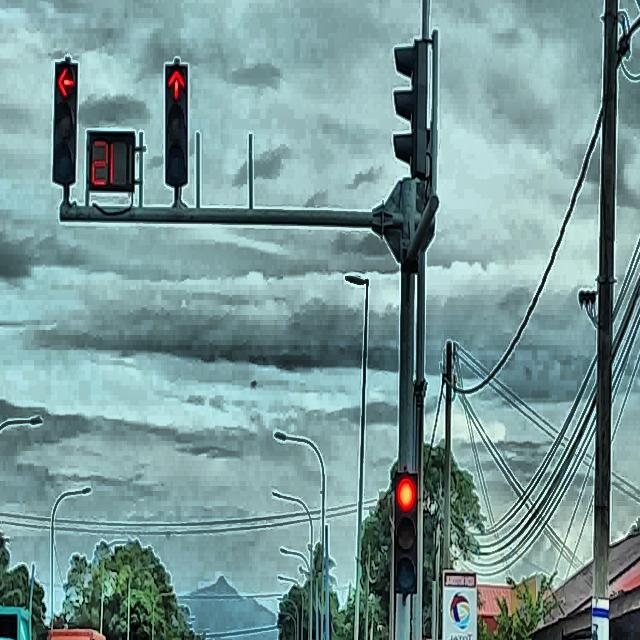red: (53, 61, 78, 187), (164, 64, 190, 185), (395, 472, 419, 594)
